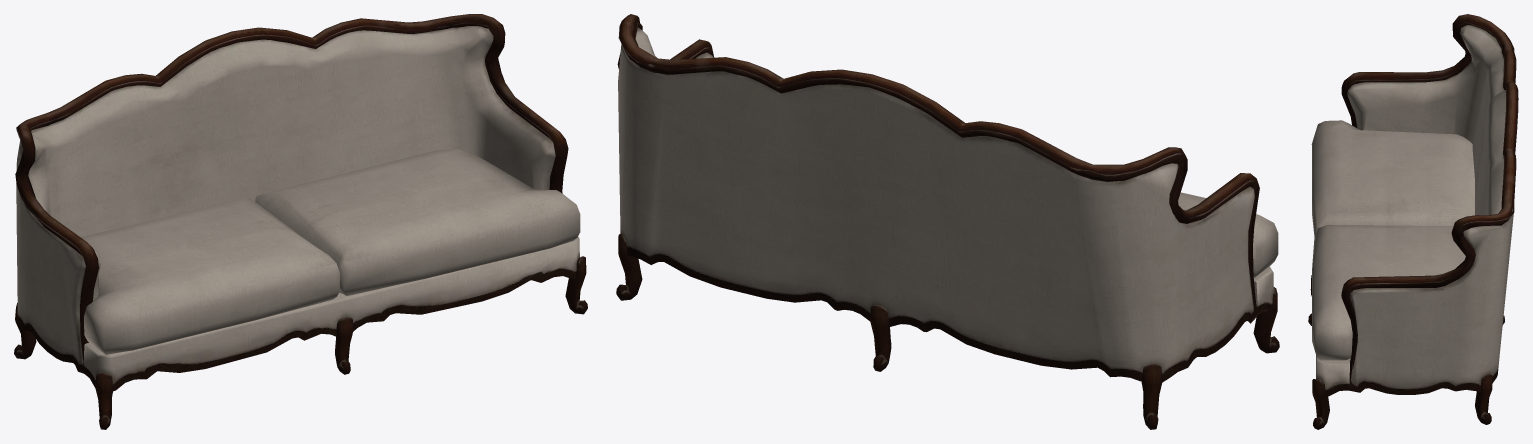
File: sofa.glb
The picture shows the model from 3 angles, left to right: view 1: azimuth 30°, elevation 25°; view 2: azimuth 150°, elevation 25°; view 3: azimuth 270°, elevation 25°; orthographic projection. The views are drawn at different scales.
Visible parts, largest first — view 1: Sofa_01; view 2: Sofa_01; view 3: Sofa_01.
Boxes of the visible parts, x1,y1,x2,y2 form: Sofa_01: (14,14,587,429); Sofa_01: (616,14,1279,429); Sofa_01: (1308,14,1518,429).
Size of the model in its own units: 1.57 by 0.7954 by 0.658.
1 material, 1 textured.
